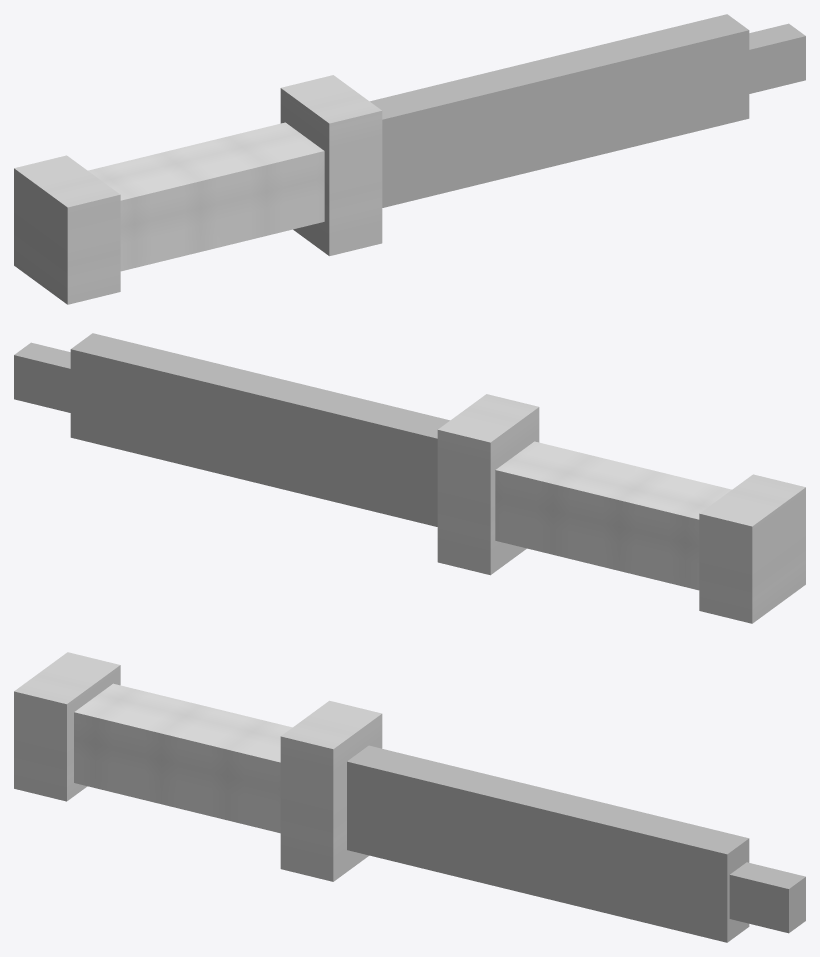
Rendered from knife.obj.
The picture shows the model from 3 angles, top to bottom: view 1: azimuth 30°, elevation 25°; view 2: azimuth 150°, elevation 25°; view 3: azimuth 330°, elevation 25°; orthographic projection.
Visible parts, largest first — view 1: knife; view 2: knife; view 3: knife.
Part boxes in pixels (x1,y1,x2,y2): knife: (14, 14, 805, 304); knife: (14, 333, 805, 623); knife: (14, 652, 805, 942).
Bounding box in the file's own units: 0.358 × 0.06 × 0.044.
